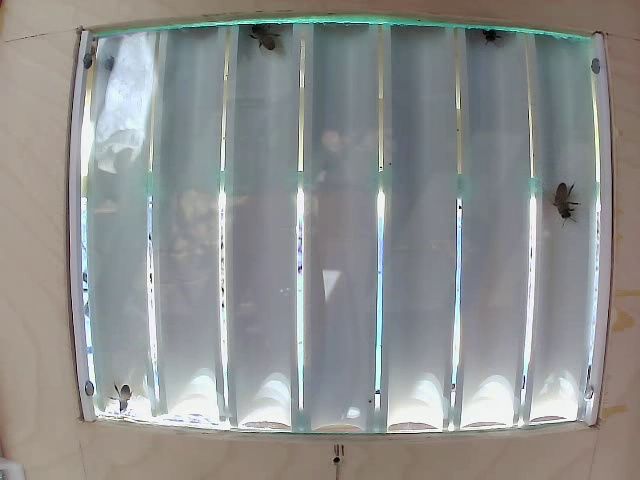bee: (528, 171, 573, 220), (245, 20, 278, 72)
